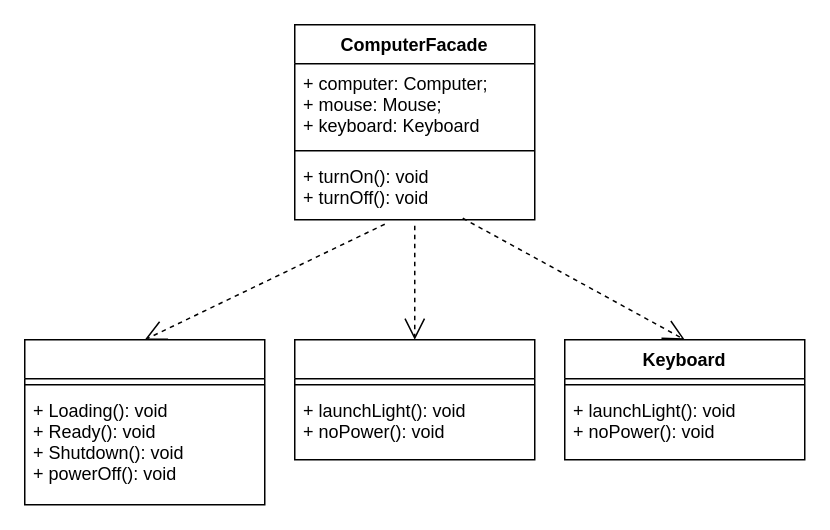
Some shapes in this 830 by 530 pixel diagram are drawn without their labels. Here are the shapes that lost their labels. From the top down, the box of each, then its label:
(293, 338, 535, 460): Mouse
(23, 338, 265, 505): Computer
